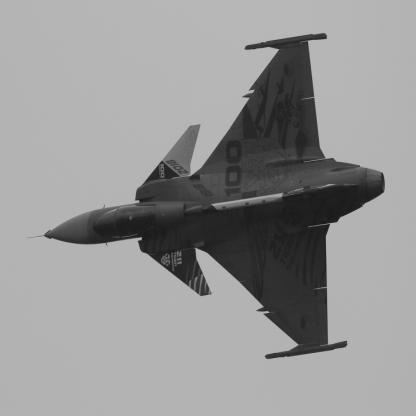JAS39: (27, 34, 387, 361)
